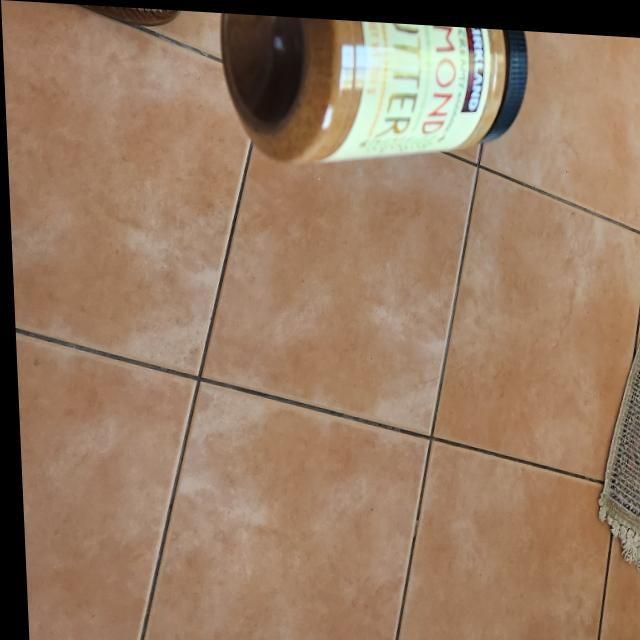almond butter: (218, 10, 532, 172)
